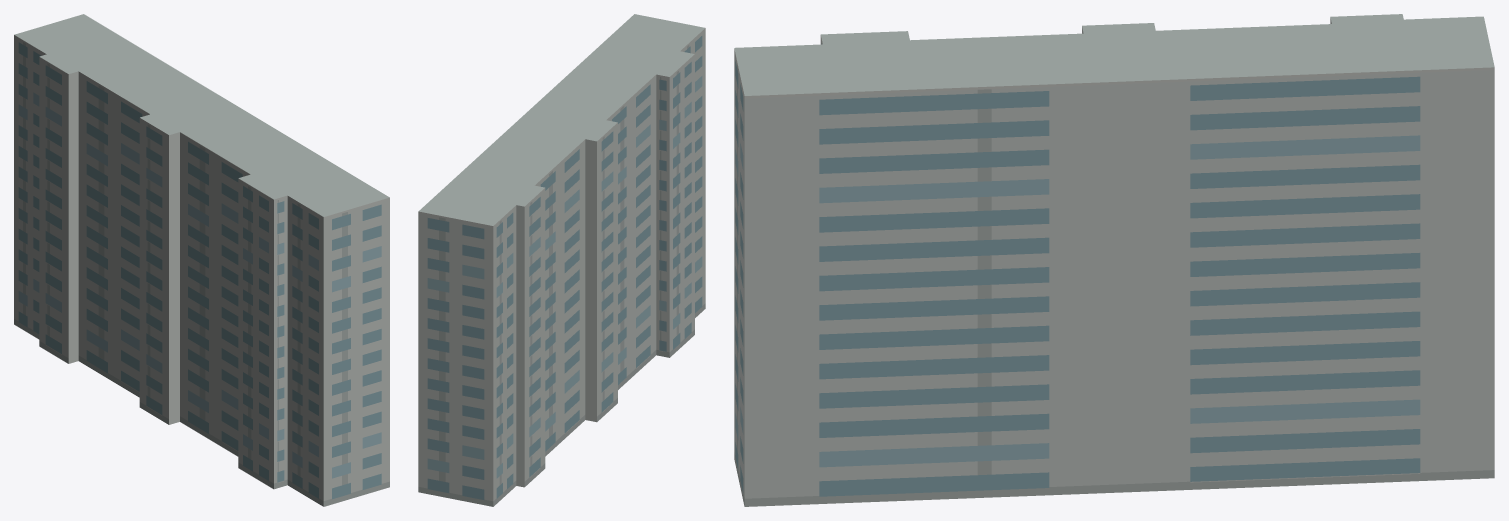
Rendered from residential-dd093784-5e1c-435c-9c47-17fc85d0f337.glb.
The picture shows the model from 3 angles, left to right: view 1: azimuth 30°, elevation 25°; view 2: azimuth 150°, elevation 25°; view 3: azimuth 270°, elevation 25°; orthographic projection. The views are drawn at different scales.
Parts seen in each view (by area): view 1: residential-dd093784-5e1c-435c-9c47-17fc85d0f337.tmp; view 2: residential-dd093784-5e1c-435c-9c47-17fc85d0f337.tmp; view 3: residential-dd093784-5e1c-435c-9c47-17fc85d0f337.tmp.
Boxes of the visible parts, x1,y1,x2,y2 form: residential-dd093784-5e1c-435c-9c47-17fc85d0f337.tmp: (14,14,389,506); residential-dd093784-5e1c-435c-9c47-17fc85d0f337.tmp: (418,14,705,506); residential-dd093784-5e1c-435c-9c47-17fc85d0f337.tmp: (734,14,1494,506).
Bounding box in the file's own units: 16.72 × 39 × 65.43.
